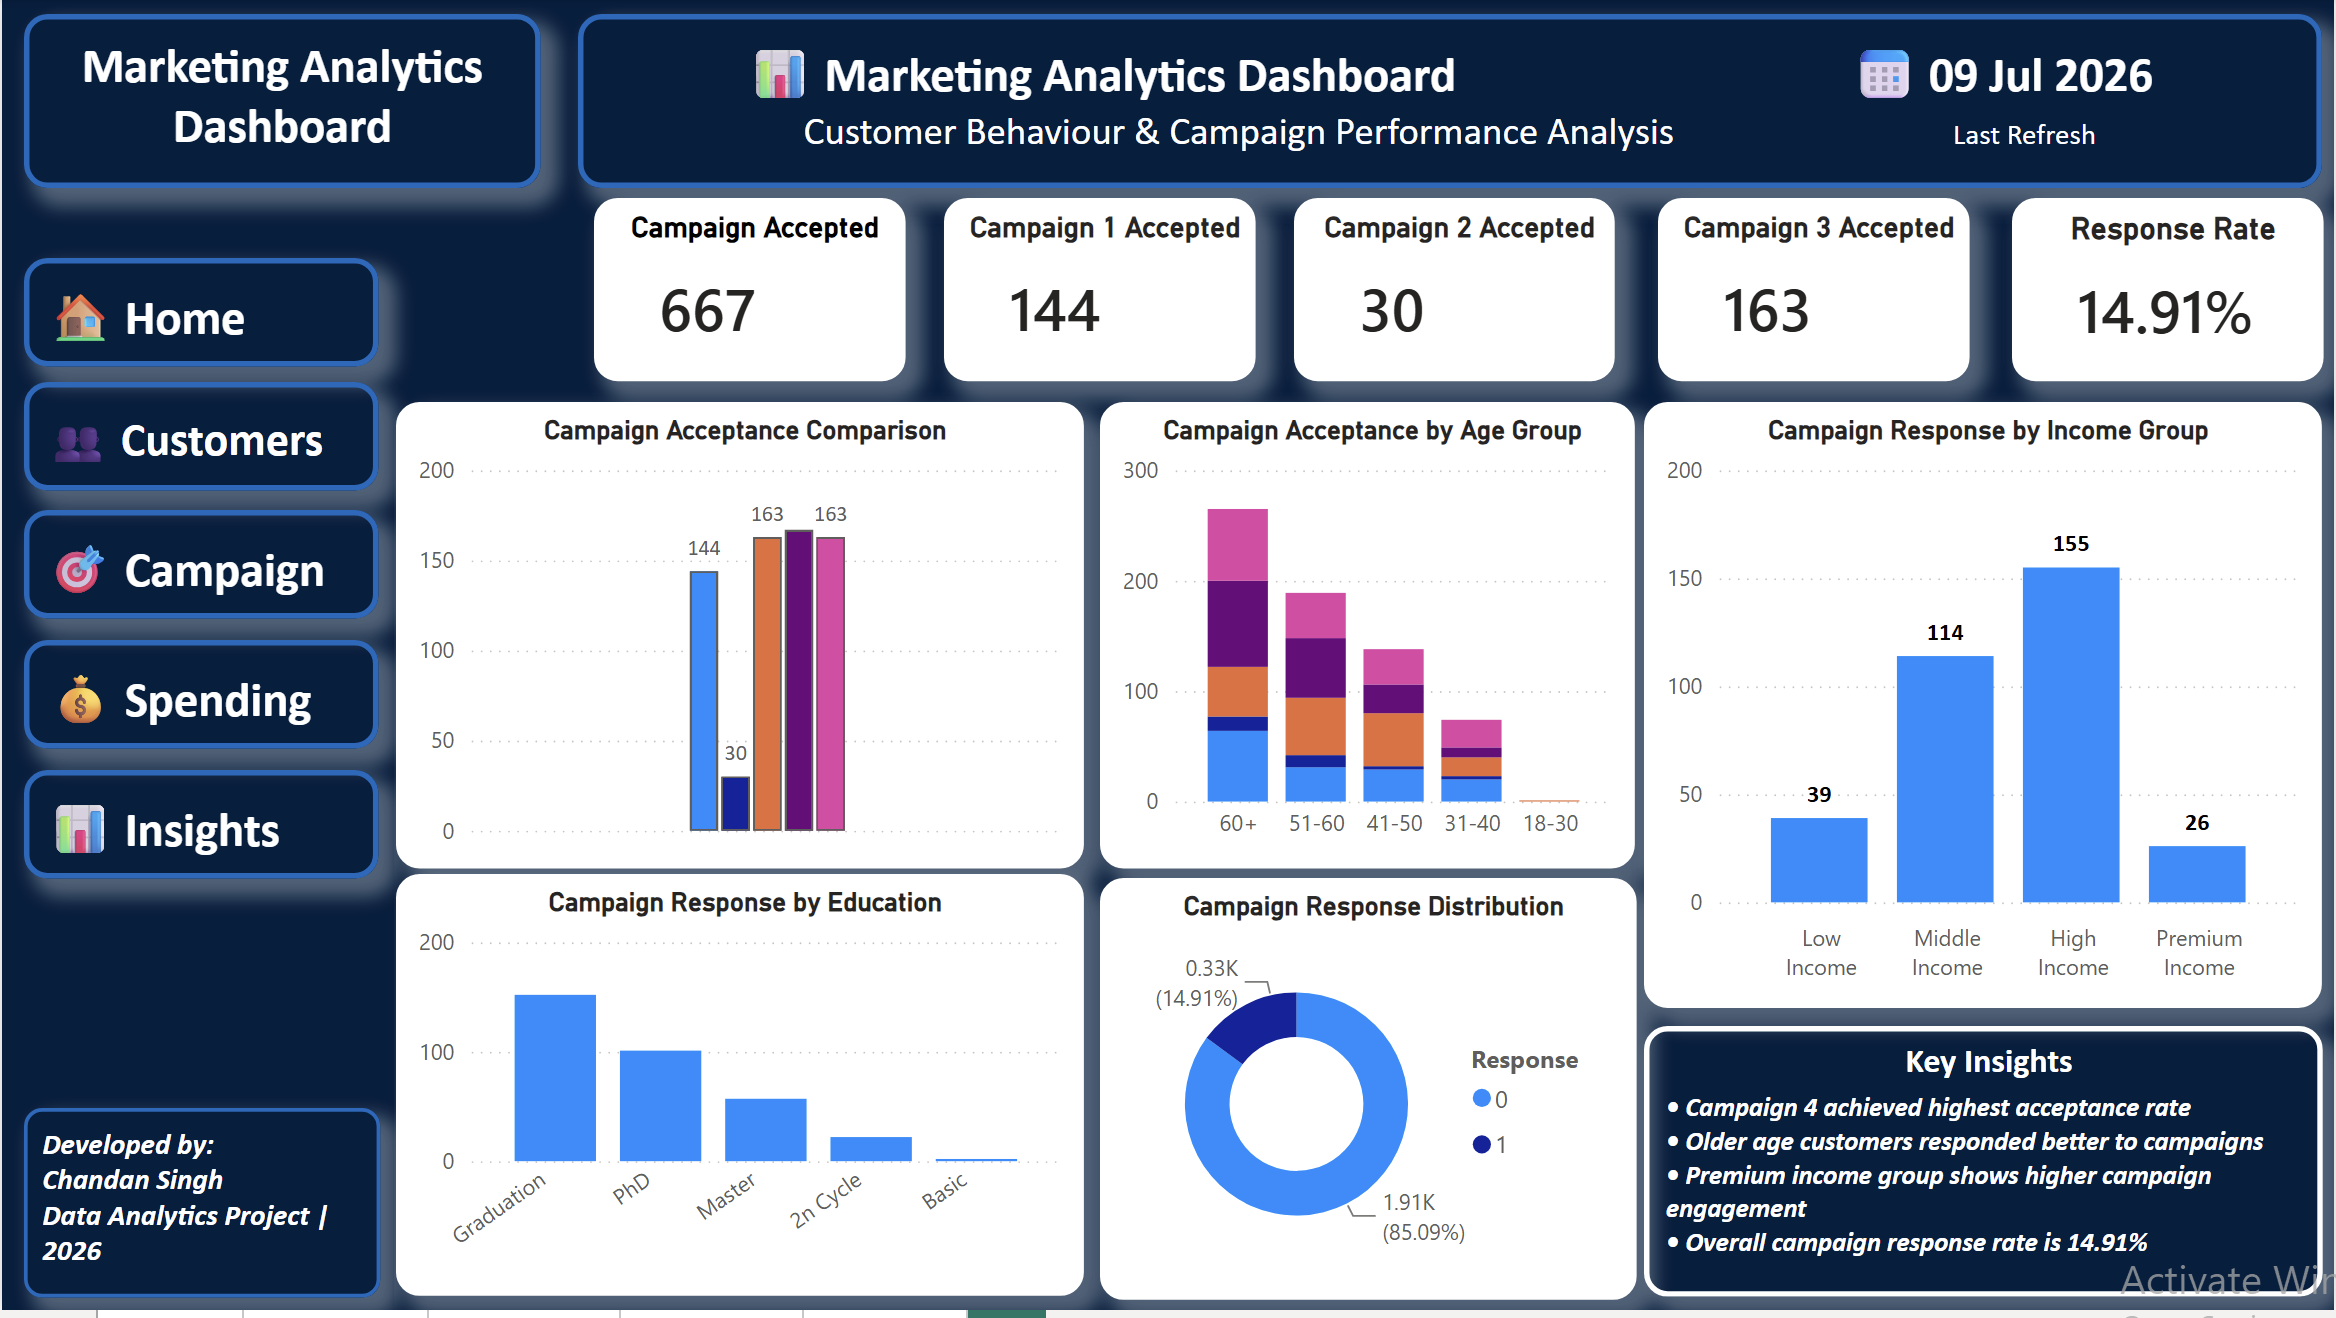

The dashboard page shown, as its layout file describes it:
{"tool":"powerbi","page":{"name":"Campaign","canvas":[1280,720],"ordinal":2},"visuals":[{"type":"cardVisual","title":"Campaign Accepted","fields":{"Data":["marketing_campaign.Total Campaign Accepted"]},"box":[324.3,110.2,171,100.3],"z":0},{"type":"cardVisual","title":"Campaign 1 Accepted","fields":{"Data":["Sum(marketing_campaign.AcceptedCmp1)"]},"box":[517.4,110.2,171,100.3],"z":1000},{"type":"cardVisual","title":"Campaign 2 Accepted","fields":{"Data":["Sum(marketing_campaign.AcceptedCmp2)"]},"box":[709.3,110.2,176,100.3],"z":2000},{"type":"cardVisual","title":"Campaign 3 Accepted","fields":{"Data":["Sum(marketing_campaign.AcceptedCmp3)"]},"box":[908.6,110.2,171,100.3],"z":3000},{"type":"cardVisual","title":"Response Rate","fields":{"Data":["marketing_campaign.Response Rate %"]},"box":[1103,110.2,171,100.3],"z":4000},{"type":"donutChart","title":"Campaign Response Distribution","fields":{"Category":["marketing_campaign.Response"],"Y":["CountNonNull(marketing_campaign.ID)"]},"box":[602.9,482.8,294.6,231.5],"z":5000},{"type":"clusteredColumnChart","title":"Campaign Acceptance Comparison","fields":{"Y":["Sum(marketing_campaign.AcceptedCmp1)","Sum(marketing_campaign.AcceptedCmp2)","Sum(marketing_campaign.AcceptedCmp3)","Sum(marketing_campaign.AcceptedCmp4)","Sum(marketing_campaign.AcceptedCmp5)"]},"box":[216.6,221.6,377.6,256.2],"z":6000},{"type":"clusteredColumnChart","title":"Campaign Response by Income Group","fields":{"Category":["marketing_campaign.Income Group"],"Y":["Sum(marketing_campaign.Response)"]},"box":[901.2,221.6,378.8,333],"z":7000},{"type":"clusteredColumnChart","title":"Campaign Response by Education","fields":{"Category":["marketing_campaign.Education"],"Y":["Sum(marketing_campaign.Response)"]},"box":[216.6,481.5,377.6,231.5],"z":8000},{"type":"columnChart","title":"Campaign Acceptance by Age Group","fields":{"Category":["marketing_campaign.Age Group"],"Y":["Sum(marketing_campaign.AcceptedCmp1)","Sum(marketing_campaign.AcceptedCmp2)","Sum(marketing_campaign.AcceptedCmp3)","Sum(marketing_campaign.AcceptedCmp4)","Sum(marketing_campaign.AcceptedCmp5)"]},"box":[602.9,221.6,293.4,256.2],"z":9000},{"type":"textbox","box":[315.7,8.7,956.9,95.3],"z":10000},{"type":"textbox","title":"Key Insights","box":[901.2,564.5,372.6,148.5],"z":11000},{"type":"shape","box":[0,141.9,215.4,578.1],"z":12000},{"type":"textbox","box":[12.4,8.7,283.5,95.3],"z":13000},{"type":"actionButton","box":[12.4,142.4,194.4,59.4],"z":14000},{"type":"actionButton","box":[12.4,210.4,194.4,59.4],"z":15000},{"type":"actionButton","box":[12.4,281,194.4,59.4],"z":16000},{"type":"actionButton","box":[12.4,352.8,194.4,59.4],"z":17000},{"type":"actionButton","box":[12.4,423.4,194.4,59.4],"z":18000},{"type":"textbox","box":[12.4,609.1,195.6,104],"z":19000}]}

Visuals, with their boxes in screenshot pixels (x1, y1, x2, y2), scaled from the page's 1280x720 canvas onto the 2336x1318 screenshot:
"Campaign Accepted" cardVisual: [592, 202, 904, 385]
"Campaign 1 Accepted" cardVisual: [944, 202, 1256, 385]
"Campaign 2 Accepted" cardVisual: [1294, 202, 1616, 385]
"Campaign 3 Accepted" cardVisual: [1658, 202, 1970, 385]
"Response Rate" cardVisual: [2013, 202, 2325, 385]
"Campaign Response Distribution" donutChart: [1100, 884, 1638, 1308]
"Campaign Acceptance Comparison" clusteredColumnChart: [395, 406, 1084, 875]
"Campaign Response by Income Group" clusteredColumnChart: [1645, 406, 2335, 1015]
"Campaign Response by Education" clusteredColumnChart: [395, 881, 1084, 1305]
"Campaign Acceptance by Age Group" columnChart: [1100, 406, 1636, 875]
textbox: [576, 16, 2322, 190]
"Key Insights" textbox: [1645, 1033, 2325, 1305]
shape: [0, 260, 393, 1317]
textbox: [23, 16, 540, 190]
actionButton: [23, 261, 377, 369]
actionButton: [23, 385, 377, 494]
actionButton: [23, 514, 377, 623]
actionButton: [23, 646, 377, 755]
actionButton: [23, 775, 377, 884]
textbox: [23, 1115, 380, 1305]
